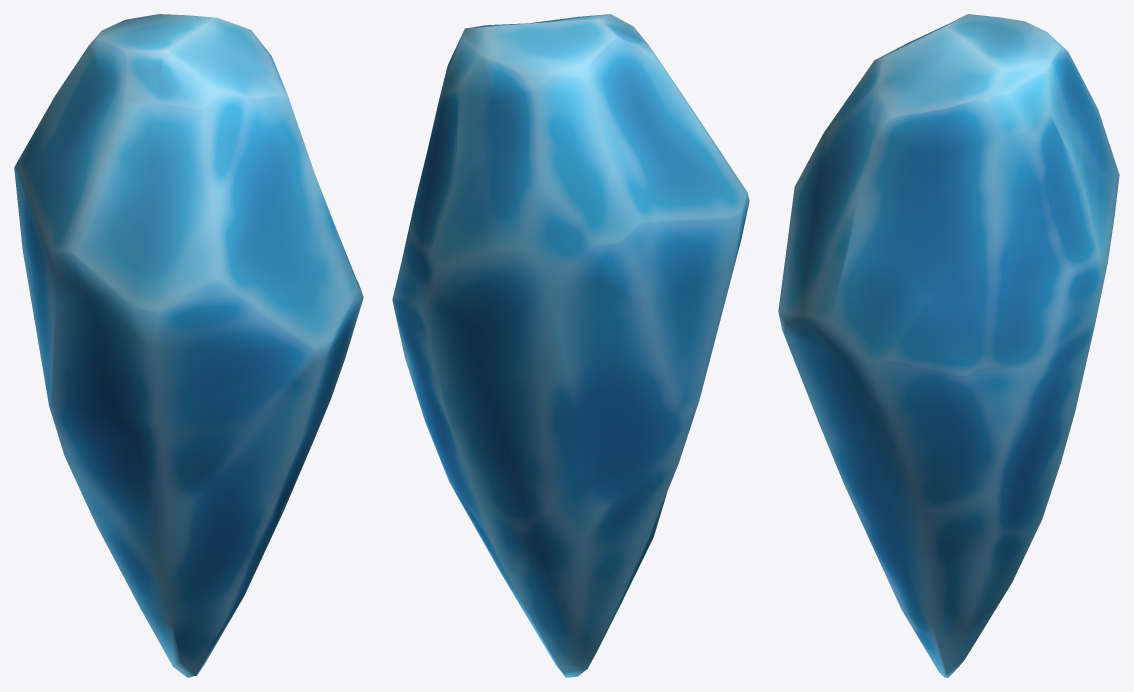
The model's file is M521Ice.fbx.
3 renders of one model, left to right at view 1: azimuth 30°, elevation 25°; view 2: azimuth 150°, elevation 25°; view 3: azimuth 270°, elevation 25°, orthographic. The views are drawn at different scales.
Visible parts, largest first — view 1: Box001; view 2: Box001; view 3: Box001.
Boxes of the visible parts, x1,y1,x2,y2 form: Box001: [14, 14, 363, 677]; Box001: [392, 14, 749, 677]; Box001: [778, 14, 1119, 677].
Size of the model in its own units: 176 by 361 by 175.
Materials: 1 (1 with a texture image).
